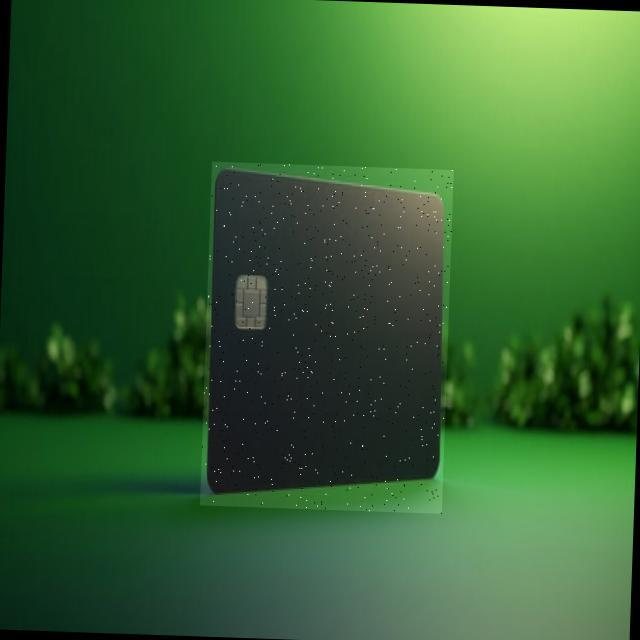payment_card: (200, 160, 454, 514)
